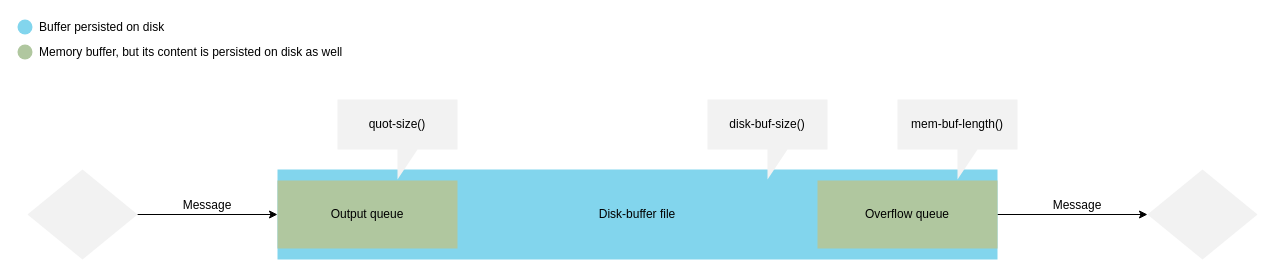
Image size: 1274x277. Some labels were removed from this diagram. Here are the shapes that lost their labels. From the top down, the centre of each, then its label:
At [82,214]: "Source".
At [1202,214]: "Destination".
